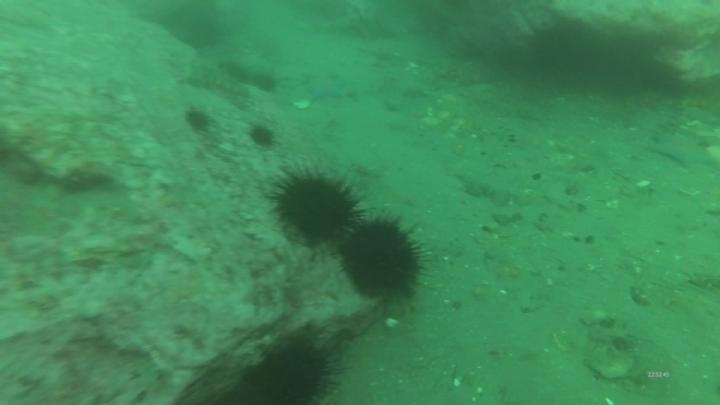echinus: (337, 211, 428, 304), (270, 164, 365, 248), (248, 332, 342, 405), (516, 19, 594, 85), (182, 105, 214, 136), (246, 121, 279, 151), (248, 68, 280, 96), (221, 55, 253, 83)
holothurian: (179, 60, 253, 99)
starfish: (648, 127, 717, 172), (303, 72, 349, 104)
